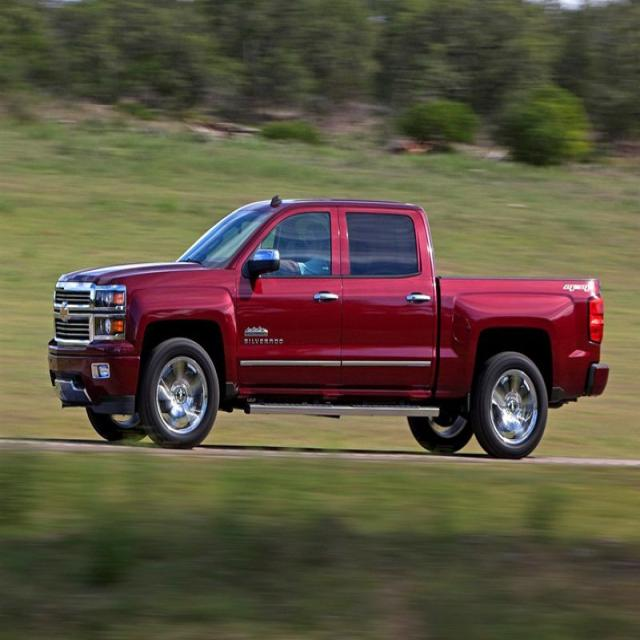back_left_side_light: (586, 291, 606, 344)
door: (342, 211, 437, 406)
front_bumper: (47, 337, 139, 403)
front_glass: (178, 206, 275, 271)
front_left_side_door: (234, 201, 344, 393)
front_left_side_light: (92, 288, 125, 342)
front_left_side_mirror: (247, 247, 281, 277)
rear_bumper: (582, 353, 615, 401)
wheel: (142, 340, 218, 449), (477, 350, 548, 459), (407, 411, 472, 454)
